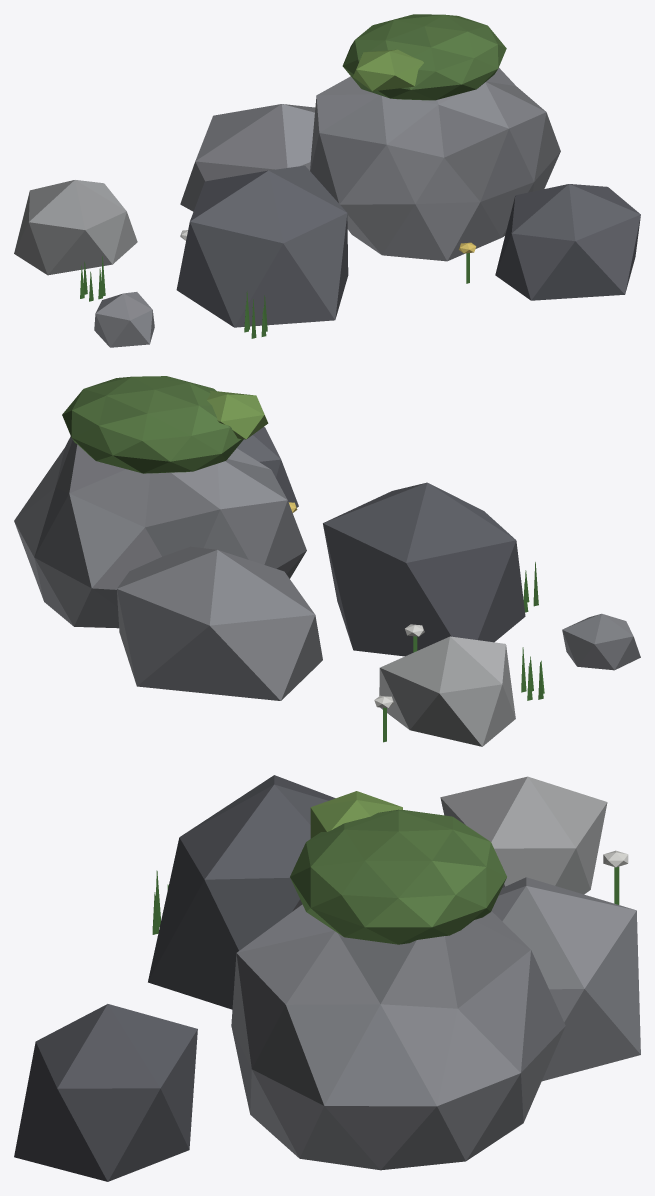
File: Decor_Beanstalk_Boulders.fbx
3 views of the same model, one above another, from view 1: azimuth 30°, elevation 25°; view 2: azimuth 150°, elevation 25°; view 3: azimuth 270°, elevation 25° (orthographic). The views are drawn at different scales.
Parts seen in each view (by area): view 1: Boulders_Body; view 2: Boulders_Body; view 3: Boulders_Body.
Part boxes in pixels (x1,y1,x2,y2): Boulders_Body: (14, 14, 640, 347); Boulders_Body: (14, 376, 640, 746); Boulders_Body: (14, 775, 640, 1181).
Size of the model in its own units: 19.7 by 7.3 by 15.
